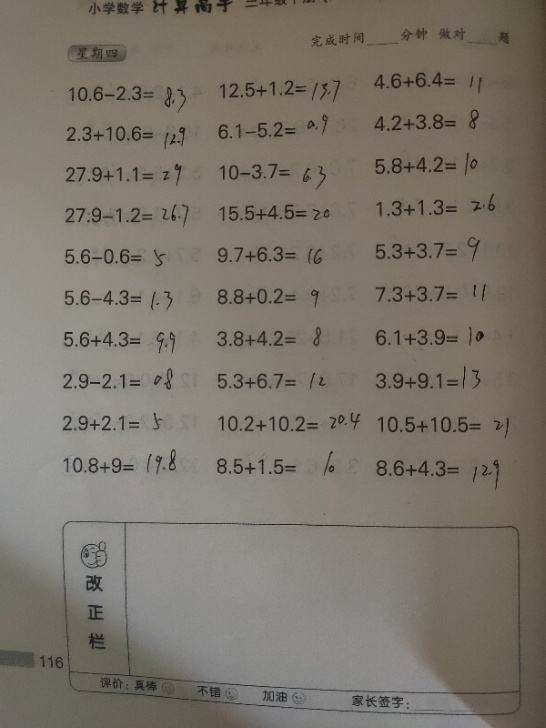equation: (363, 449, 520, 494), (375, 403, 521, 448), (208, 405, 369, 441), (363, 232, 496, 274), (62, 117, 197, 157), (54, 325, 183, 365), (212, 106, 336, 147), (56, 197, 197, 233), (375, 320, 500, 360), (210, 199, 343, 236), (211, 321, 335, 359), (208, 156, 336, 192), (63, 79, 197, 113), (365, 69, 492, 103), (62, 160, 188, 193), (219, 76, 350, 106), (214, 450, 342, 480), (375, 278, 495, 310), (207, 369, 339, 398), (60, 450, 180, 481), (207, 280, 330, 310), (371, 192, 511, 217), (191, 241, 325, 267), (372, 367, 492, 396), (54, 368, 187, 393), (371, 109, 487, 137), (369, 154, 496, 179), (61, 286, 176, 312), (61, 245, 173, 268), (59, 410, 166, 434)
